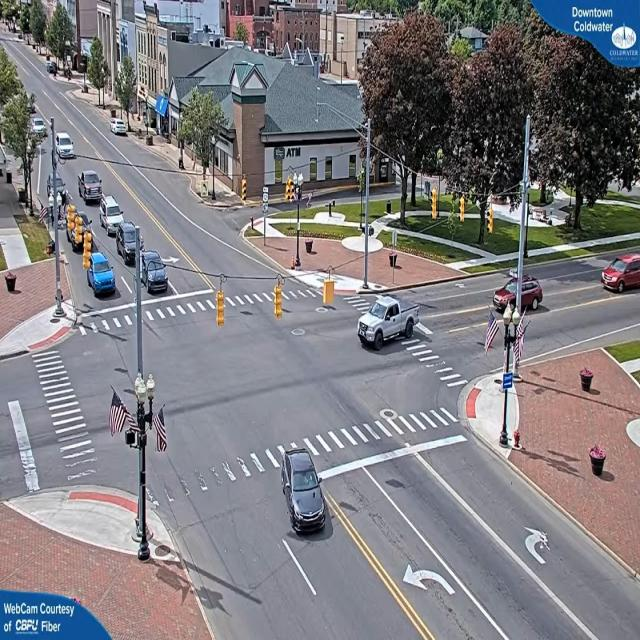car: (282, 450, 328, 534), (356, 293, 416, 350), (600, 255, 639, 295), (87, 253, 118, 297), (140, 250, 170, 293), (118, 223, 142, 260), (79, 171, 103, 205), (54, 131, 76, 159), (112, 120, 129, 136)
